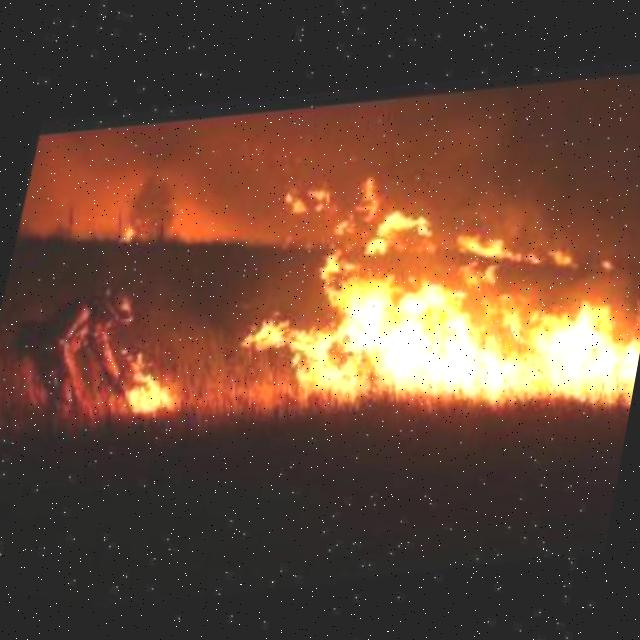fire: (229, 150, 640, 467), (92, 319, 184, 421)
